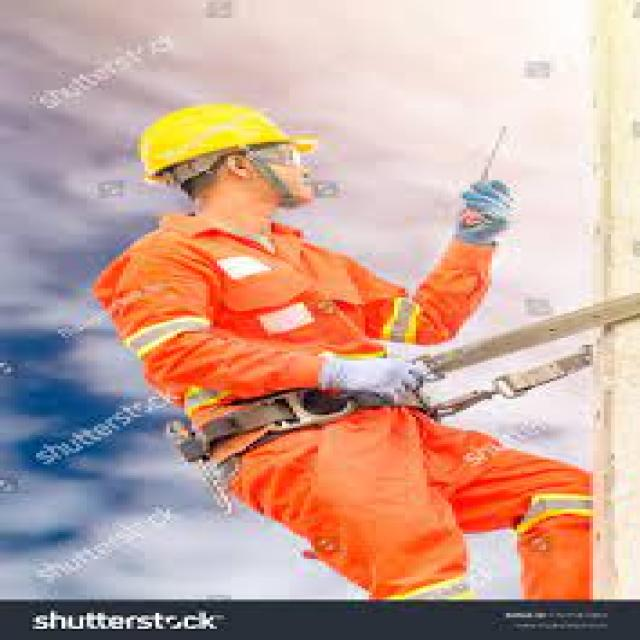vest: (83, 208, 593, 600)
